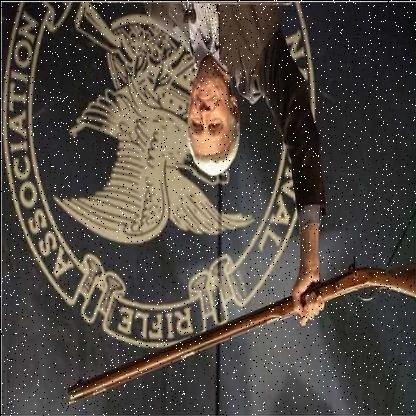rifle: (57, 232, 416, 412)
